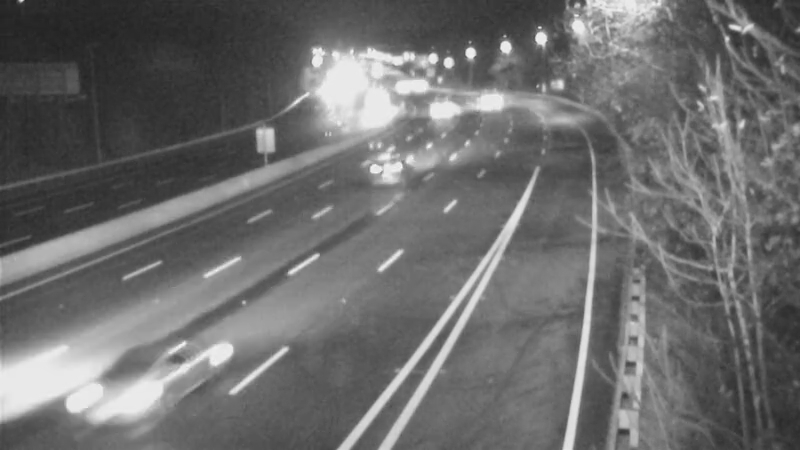vehicle: (49, 343, 159, 450), (350, 126, 430, 206), (462, 73, 512, 123), (411, 84, 461, 134), (346, 87, 396, 137)
